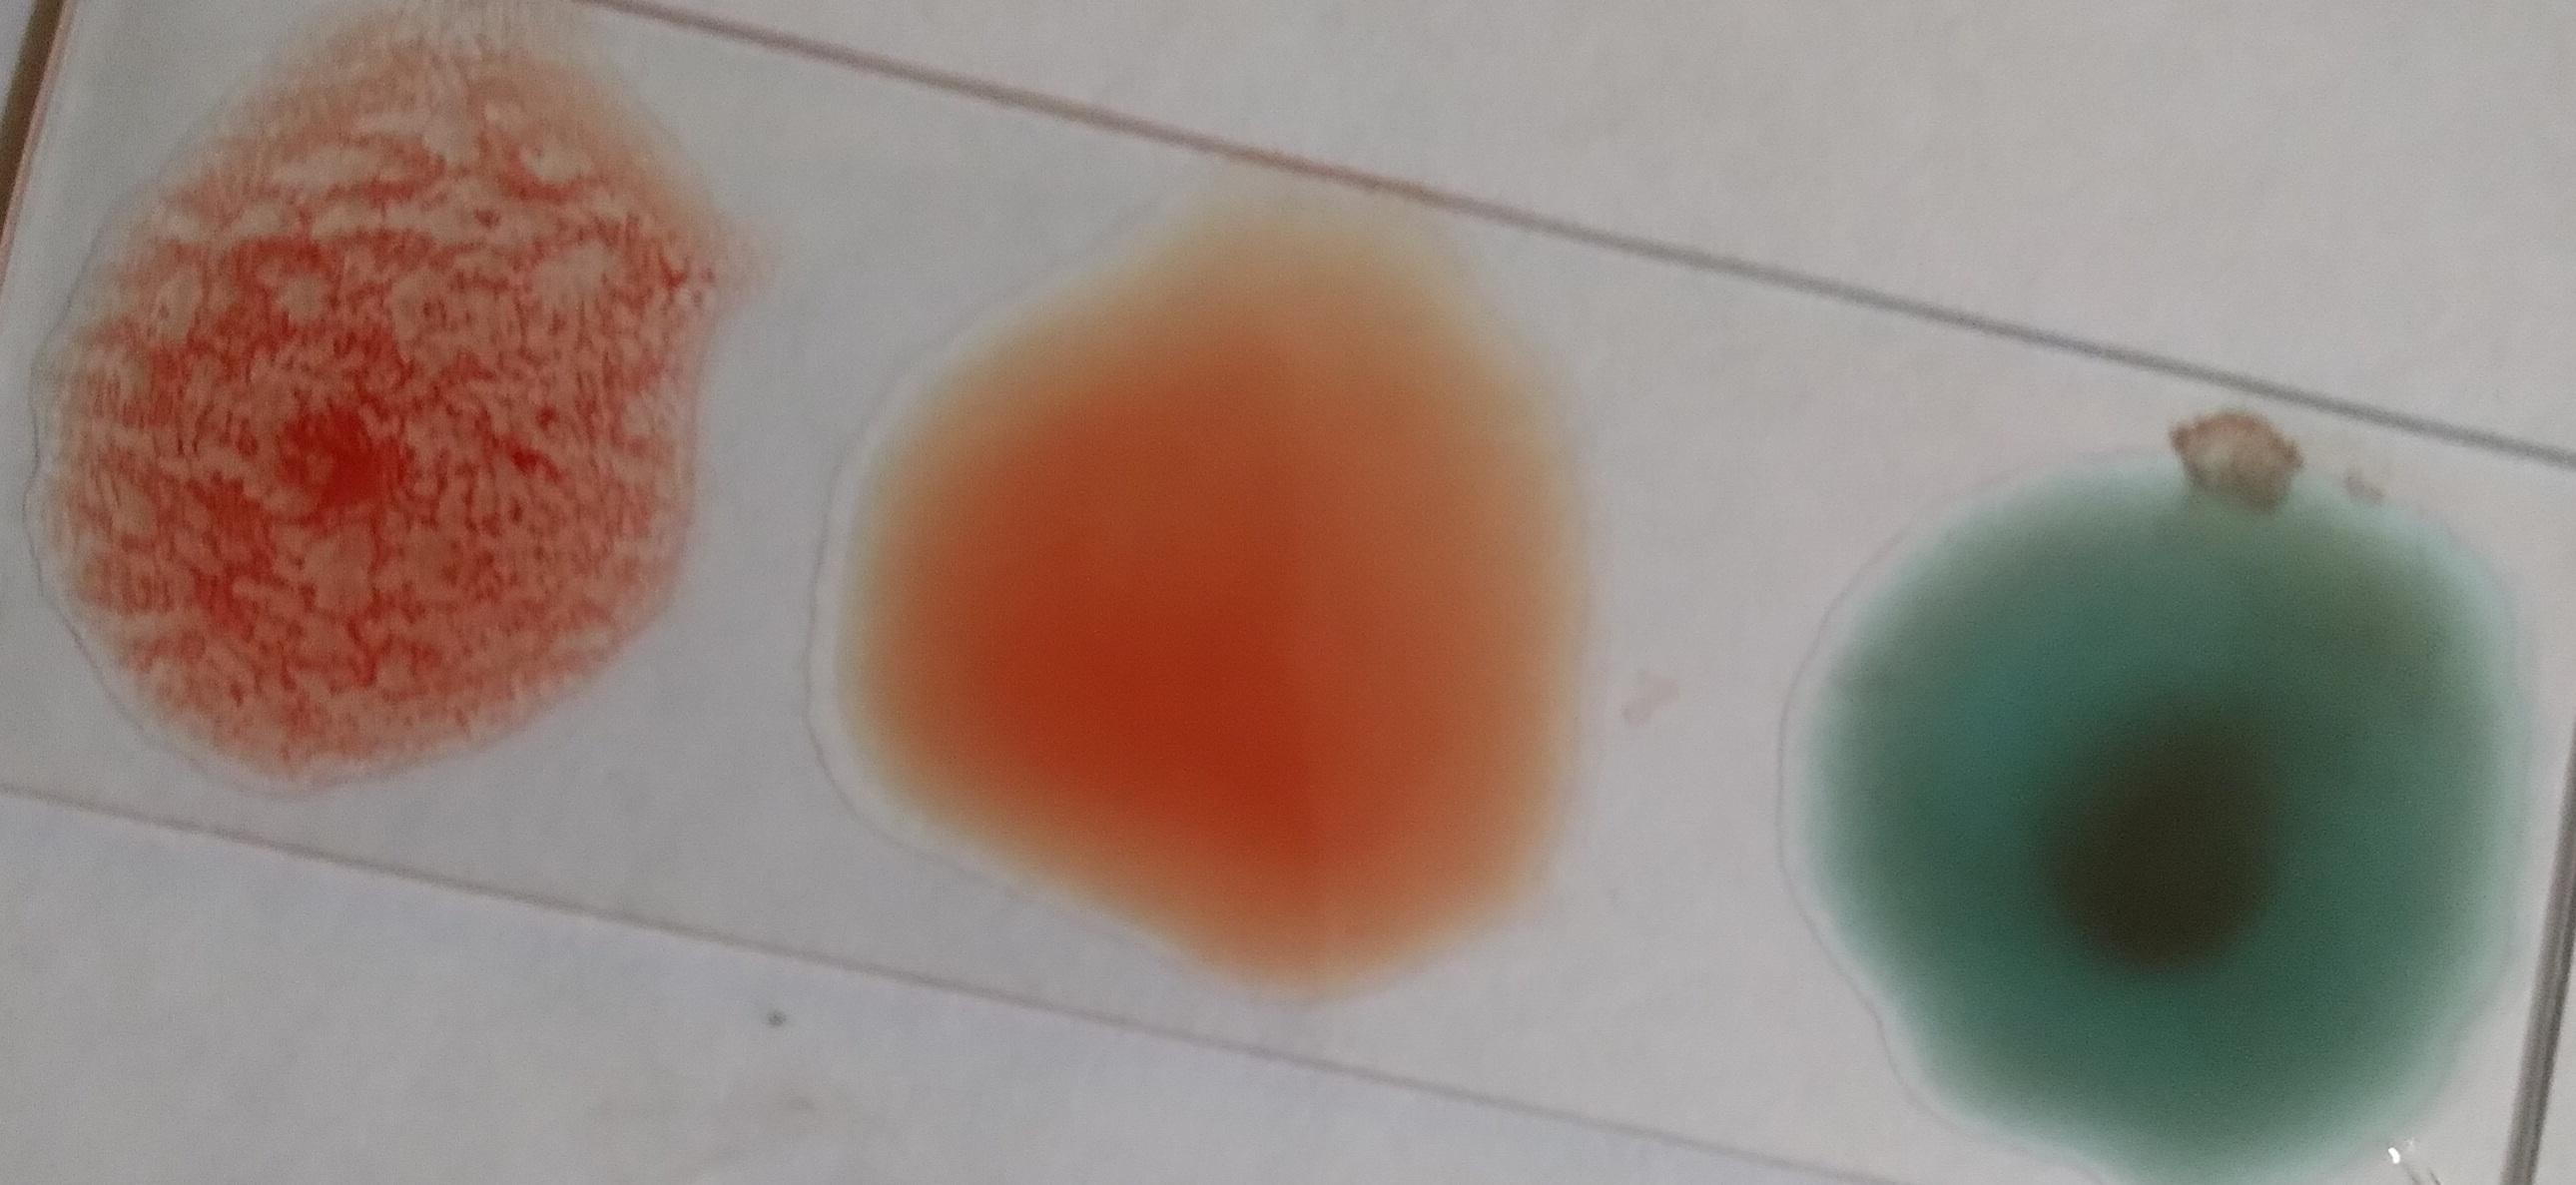D: (80, 56, 634, 787)
